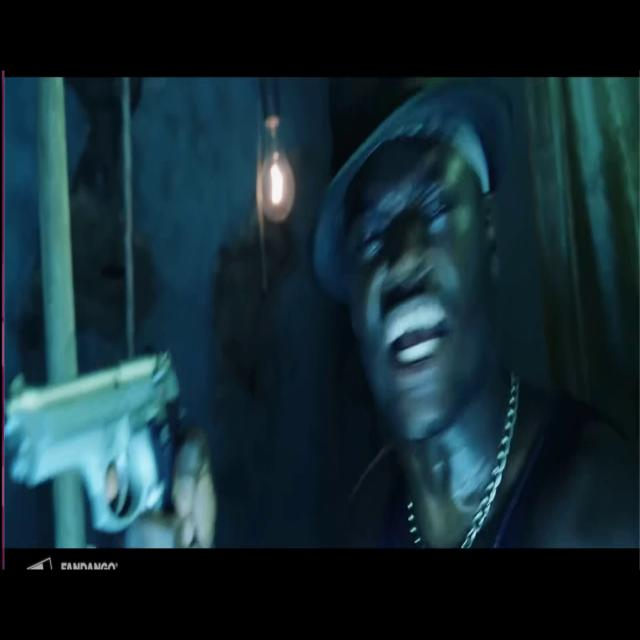weapons: (2, 356, 206, 538)
